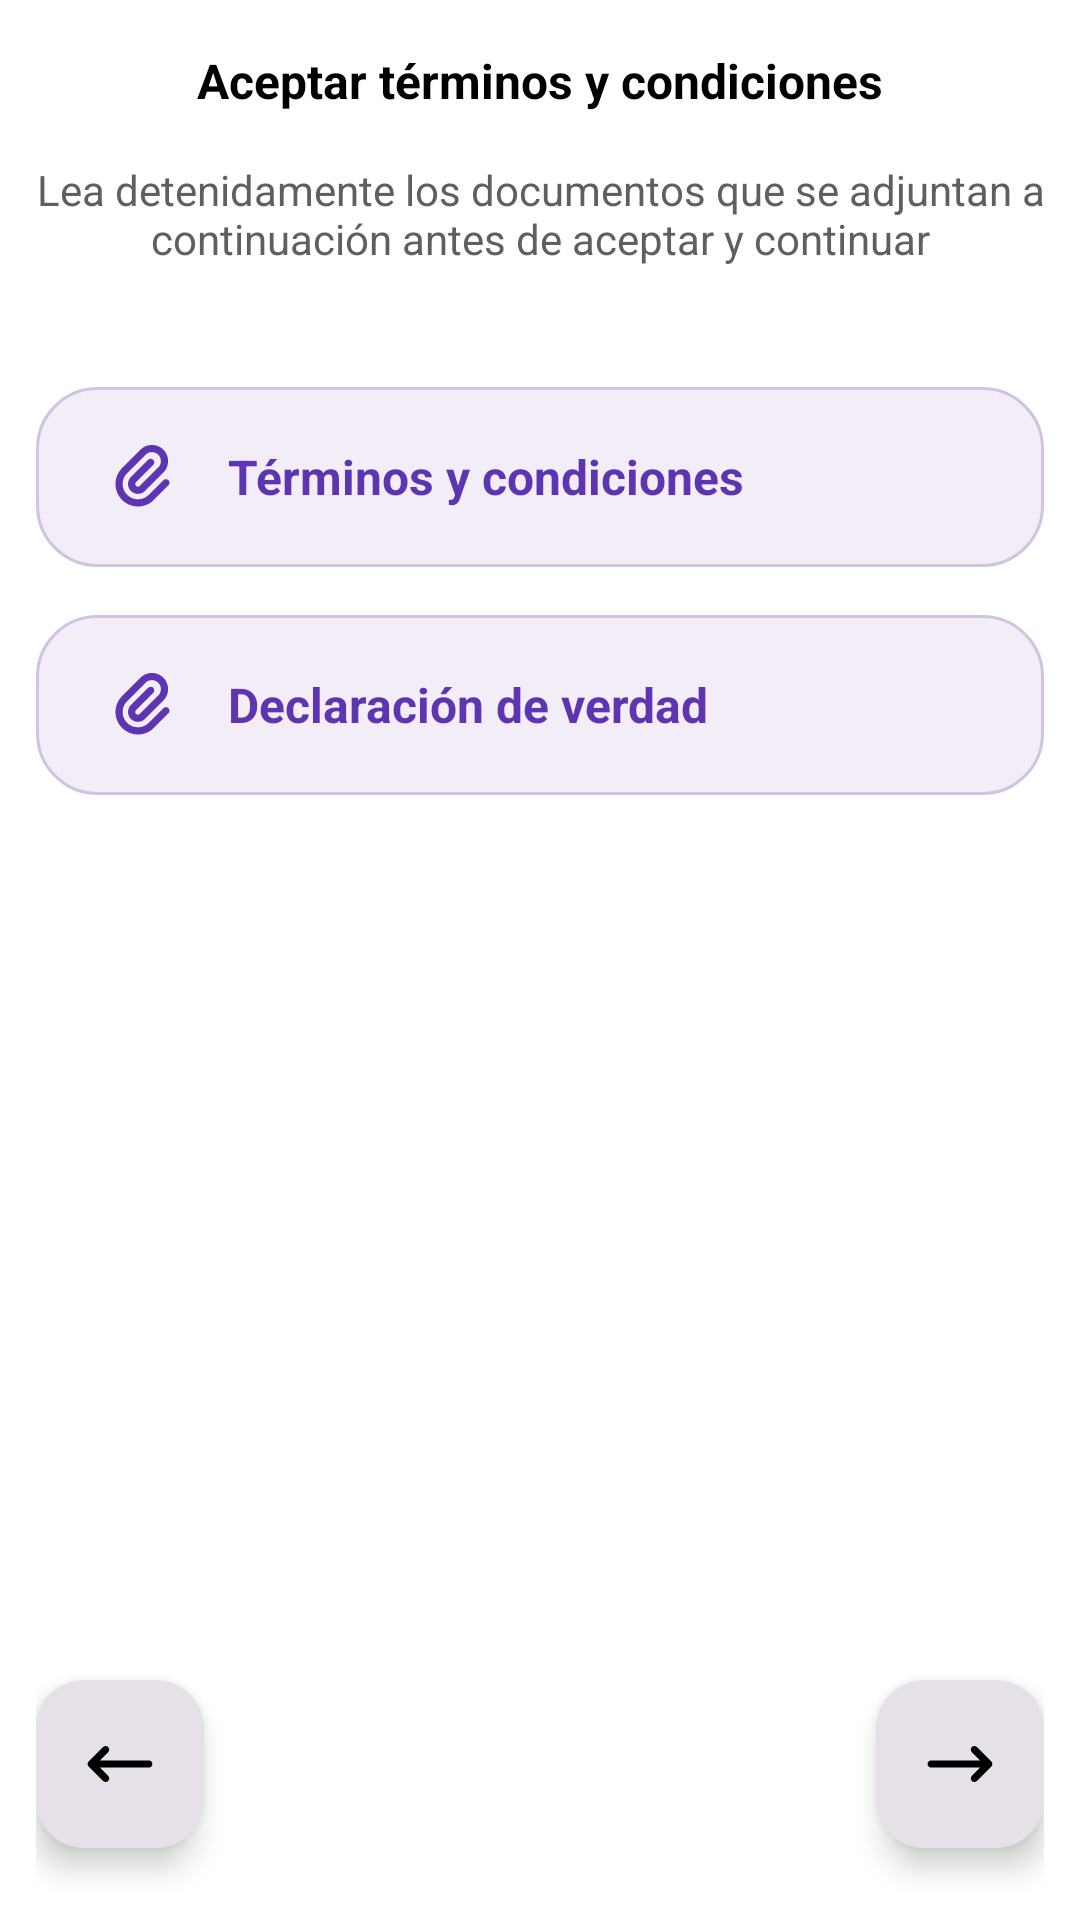

Icon bounding boxes for this 1080px×1920px phone screenshot, format {"left": x1, "top": y1, "right": x2, "bottom": y2}:
att: {"left": 115, "top": 445, "right": 170, "bottom": 507}, {"left": 115, "top": 673, "right": 170, "bottom": 735}
left arrow: {"left": 36, "top": 1680, "right": 204, "bottom": 1848}
right arrow: {"left": 876, "top": 1680, "right": 1044, "bottom": 1848}
